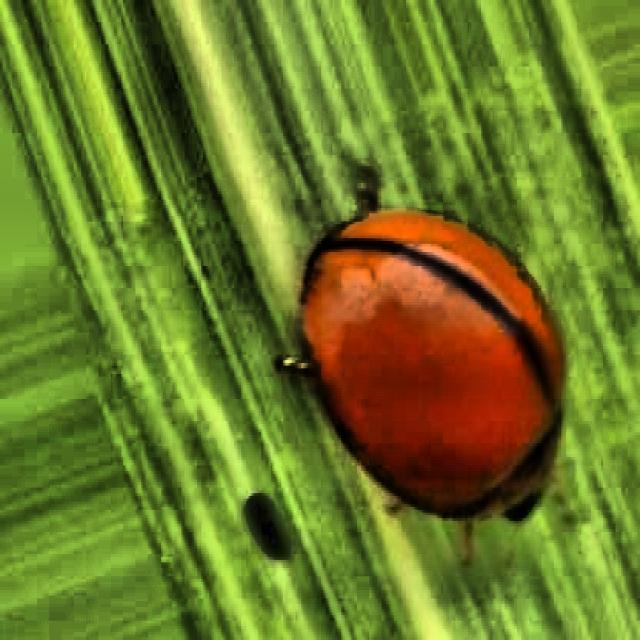Ladybug: (224, 116, 613, 635)
